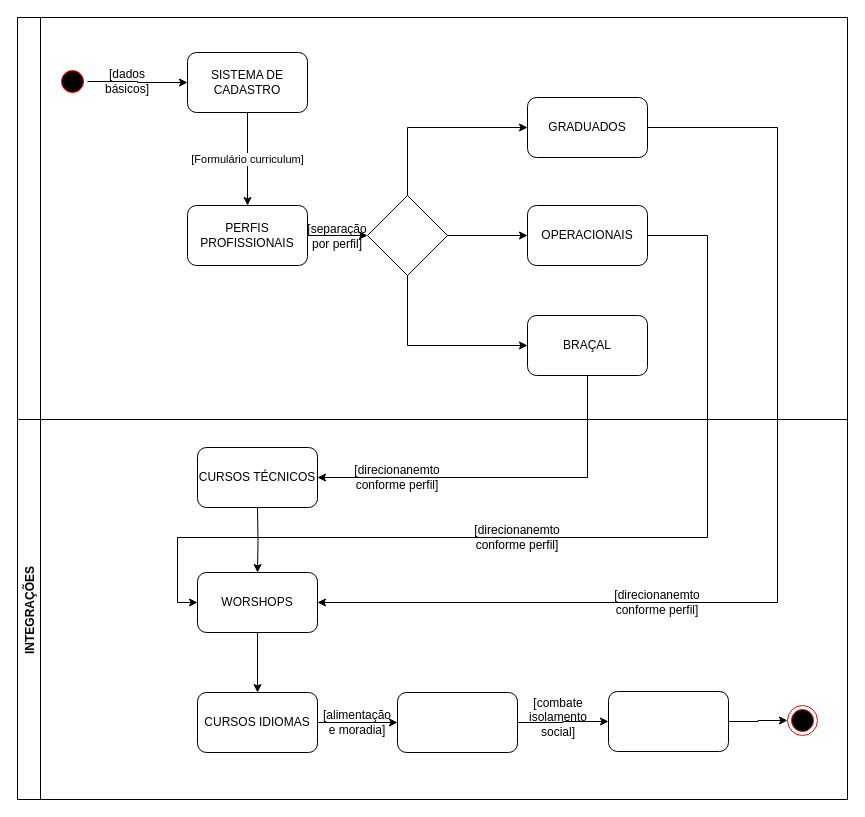
Some shapes in this 865 by 817 pixel diagram are drawn without their labels. The shapes that lost their labels are listed below. From the top down, each one's box as (x1, y1, x2, y2) in pixels, then its label:
(16, 16, 848, 420): CADASTROS
(396, 692, 518, 752): PAINEL DE ONGs DE APOIO
(608, 690, 728, 752): MIDIAS SOCIAIS
